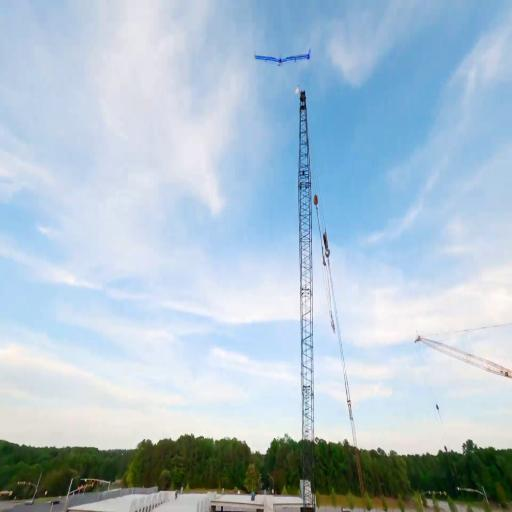uav: (250, 37, 314, 77)
